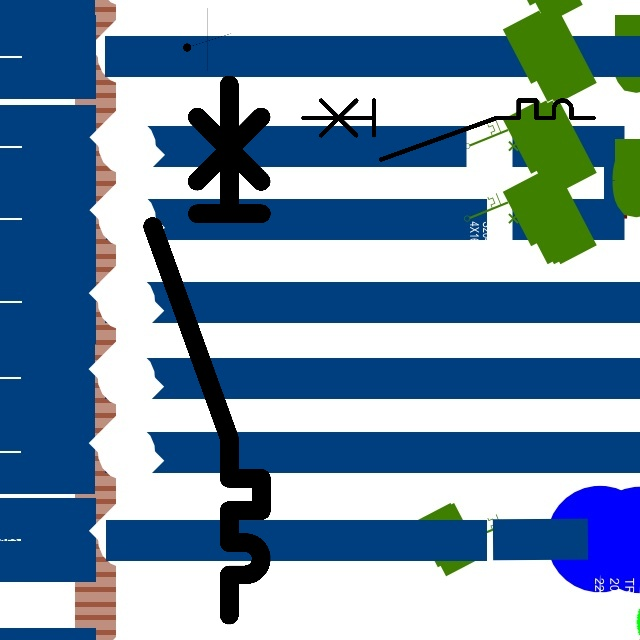interruptor_termomagnetico: (139, 71, 275, 628), (296, 93, 601, 167)
